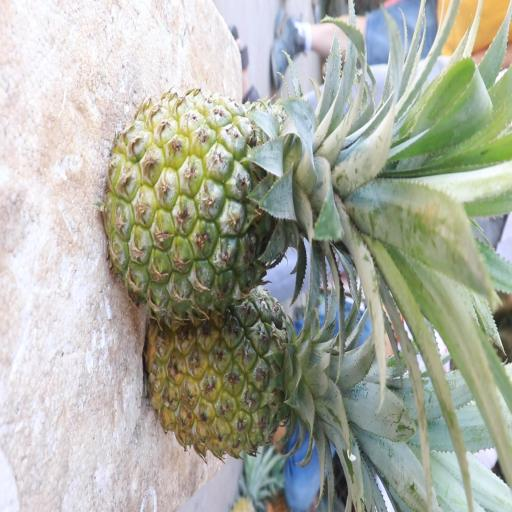------------------------------: (105, 92, 341, 309)
Pineapple - v8 v1: (152, 286, 338, 481)
